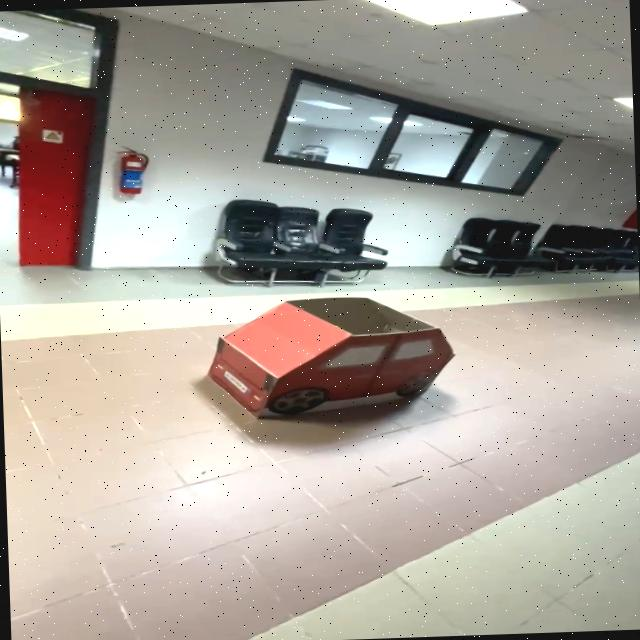red_car: (179, 283, 498, 435)
